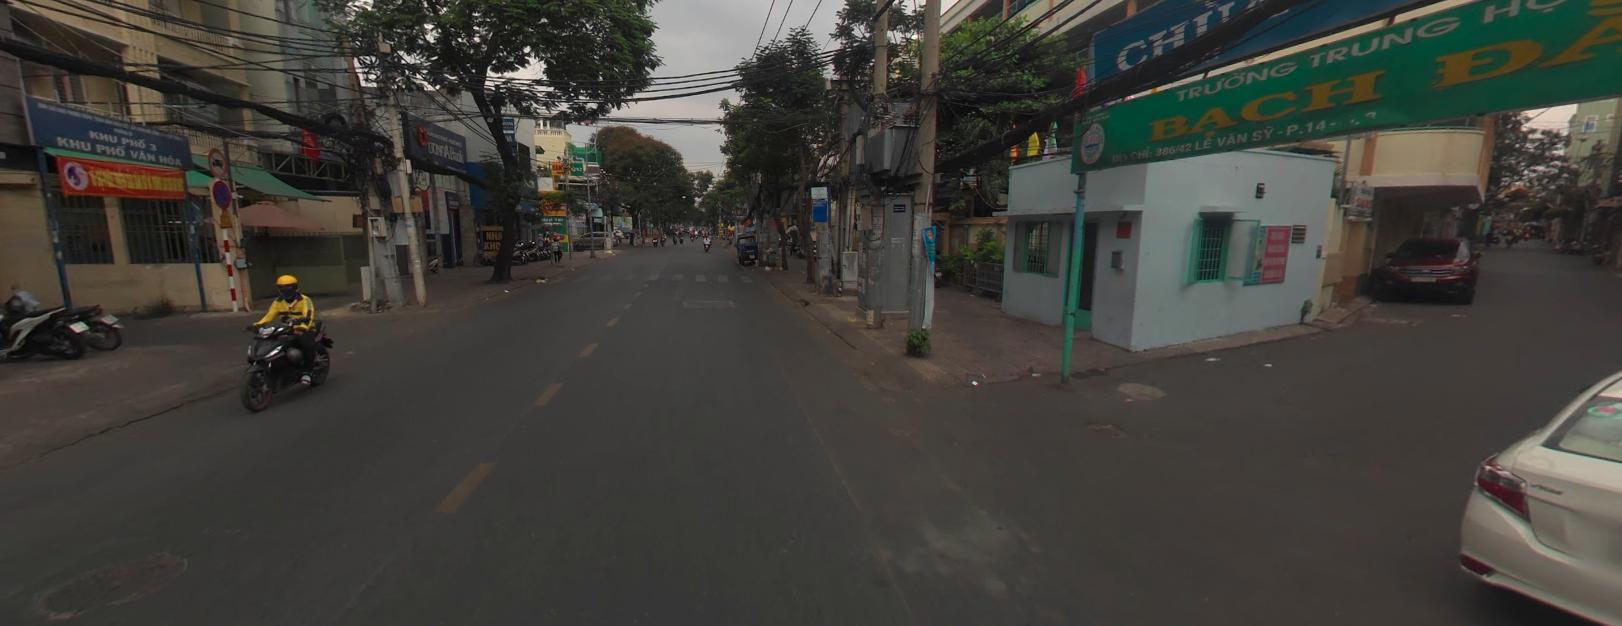Cam con lai: (205, 145, 228, 176)
Cam dung va do: (210, 178, 232, 206)
Nguy hiem: (216, 208, 235, 229)
